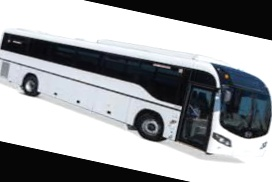bus: (0, 16, 272, 165)
